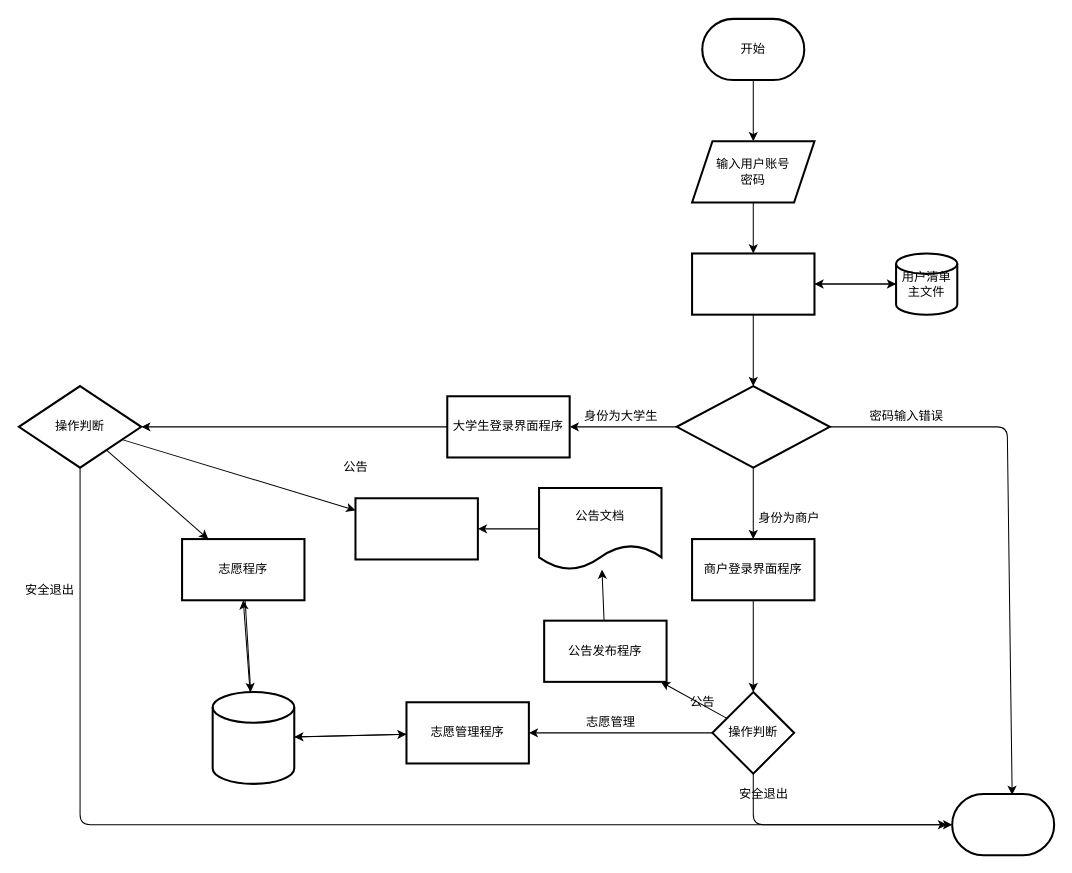
Image size: 1072x873. Some labels were removed from this diagram. Here are the shapes that lost their labels. From the top down, the centre of each, then its label:
the point at 753,283: 用户登录程序
the point at 752,426: 判断用户密码和身份
the point at 416,528: 公告查询程序
the point at 253,737: 志愿者清单
the point at 1003,824: 结束
